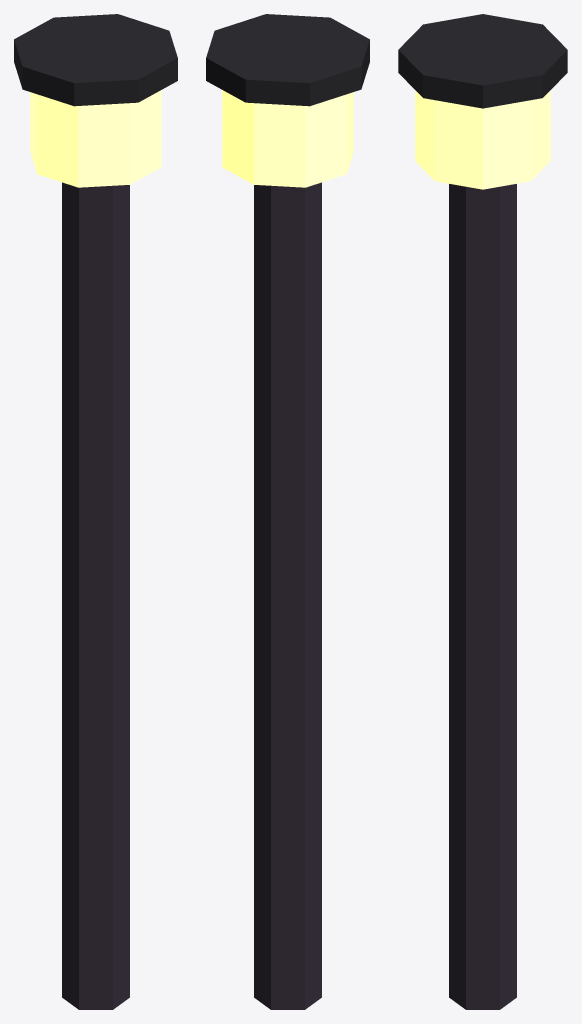
Rendered from lamp_post.glb.
3 renders of one model, left to right at view 1: azimuth 30°, elevation 25°; view 2: azimuth 150°, elevation 25°; view 3: azimuth 270°, elevation 25°, orthographic.
Parts seen in each view (by area): view 1: lamp_post; view 2: lamp_post; view 3: lamp_post.
Boxes of the visible parts, <box> form: lamp_post: <box>14,14,177,1009</box>; lamp_post: <box>206,14,369,1009</box>; lamp_post: <box>398,14,567,1009</box>.
Size of the model in its own units: 0.2 by 1.24 by 0.2.
